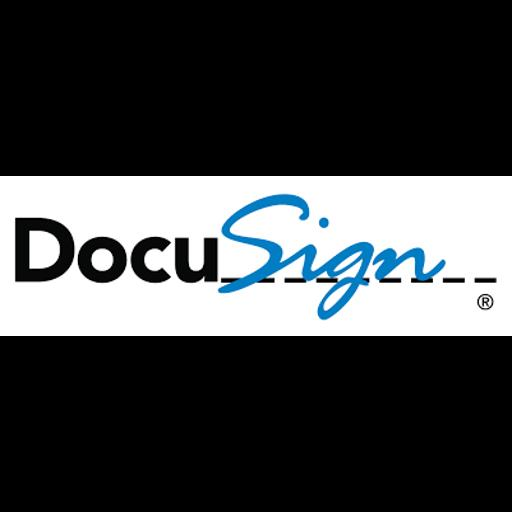DocuSign: (0, 176, 512, 336)
